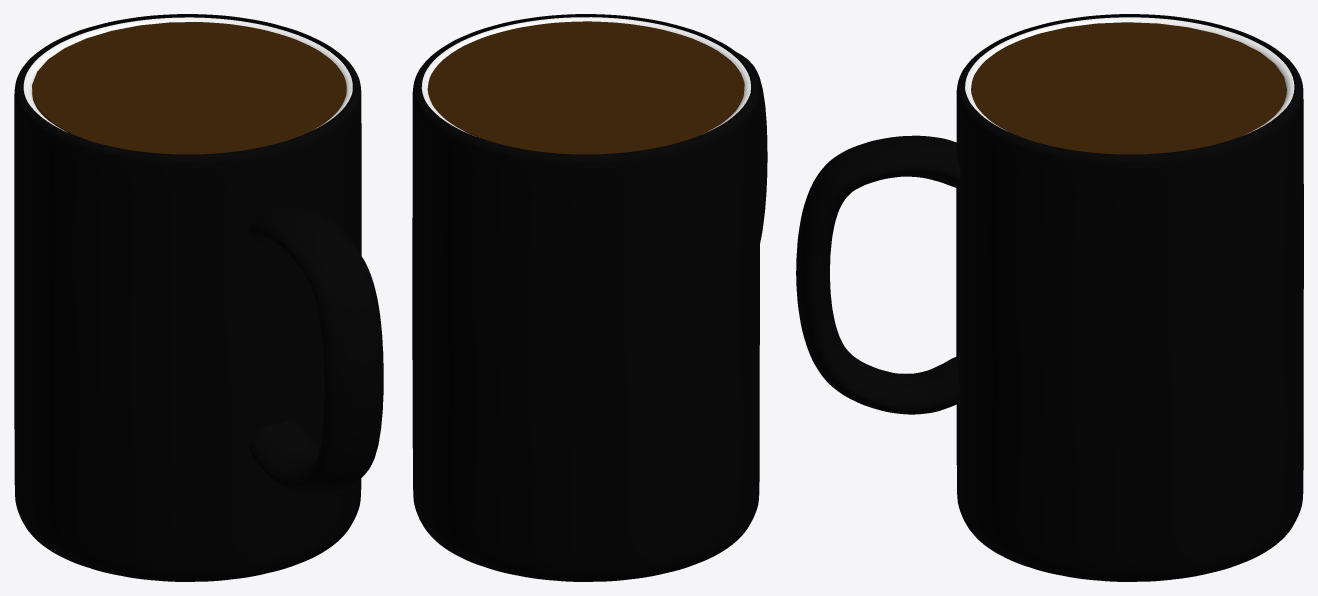
File: coffee_mug.glb
3 views of the same model, side by side, from view 1: azimuth 30°, elevation 25°; view 2: azimuth 150°, elevation 25°; view 3: azimuth 270°, elevation 25° (orthographic).
Parts seen in each view (by area): view 1: Object_6, Cylinder.001_5, Object_8; view 2: Object_6, Cylinder.001_5, Object_8; view 3: Object_6, Cylinder.001_5, Object_8.
Part boxes in pixels (x1,y1,x2,y2): Object_6: [14, 14, 383, 581]; Cylinder.001_5: [32, 22, 346, 154]; Object_8: [23, 17, 352, 132]; Object_6: [412, 14, 767, 581]; Cylinder.001_5: [427, 21, 744, 154]; Object_8: [421, 17, 750, 135]; Object_6: [796, 14, 1303, 581]; Cylinder.001_5: [971, 22, 1286, 154]; Object_8: [965, 17, 1294, 134].
Size of the model in its own units: 4.22 by 5.73 by 6.16.
